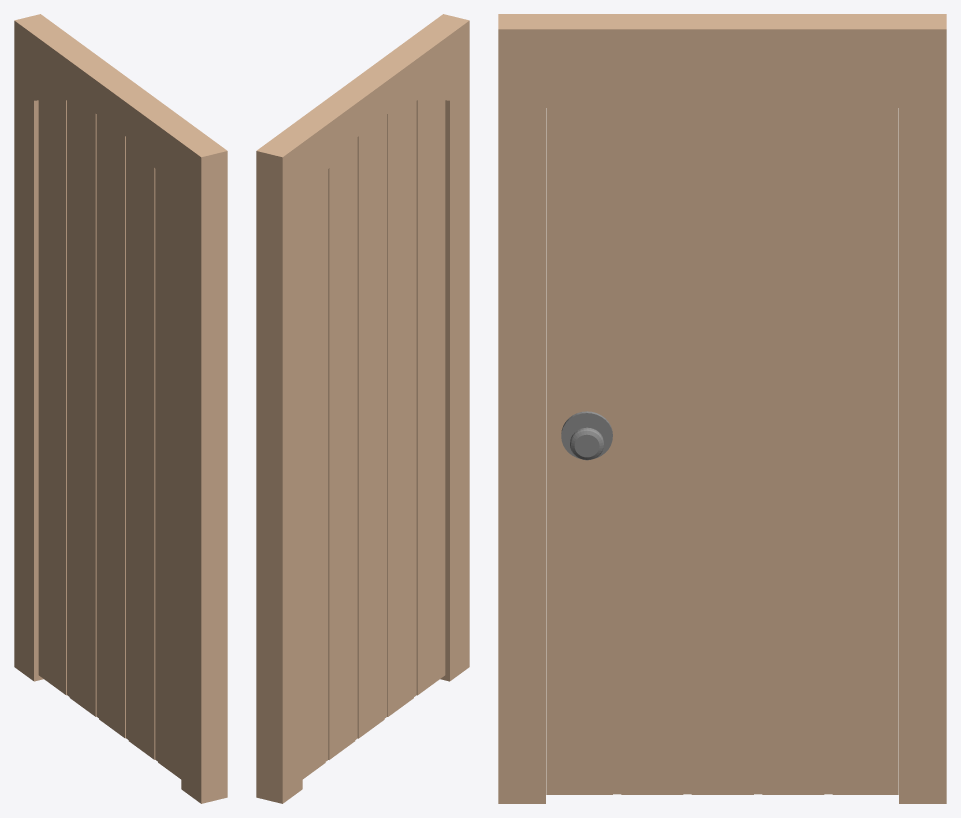
File: Door.fbx
The picture shows the model from 3 angles, left to right: view 1: azimuth 30°, elevation 25°; view 2: azimuth 150°, elevation 25°; view 3: azimuth 270°, elevation 25°; orthographic projection. The views are drawn at different scales.
Visible parts, largest first — view 1: Cube, Cube.001; view 2: Cube, Cube.001; view 3: Cube, Cube.001, Circle.
Boxes of the visible parts, x1,y1,x2,y2 form: Cube: (38,99,181,779); Cube.001: (14,14,227,803); Cube: (302,99,445,779); Cube.001: (256,14,469,803); Cube: (546,69,898,794); Cube.001: (498,14,946,803); Circle: (561,411,612,460).
Bounding box in the file's own units: 33.31 × 498 × 261.
